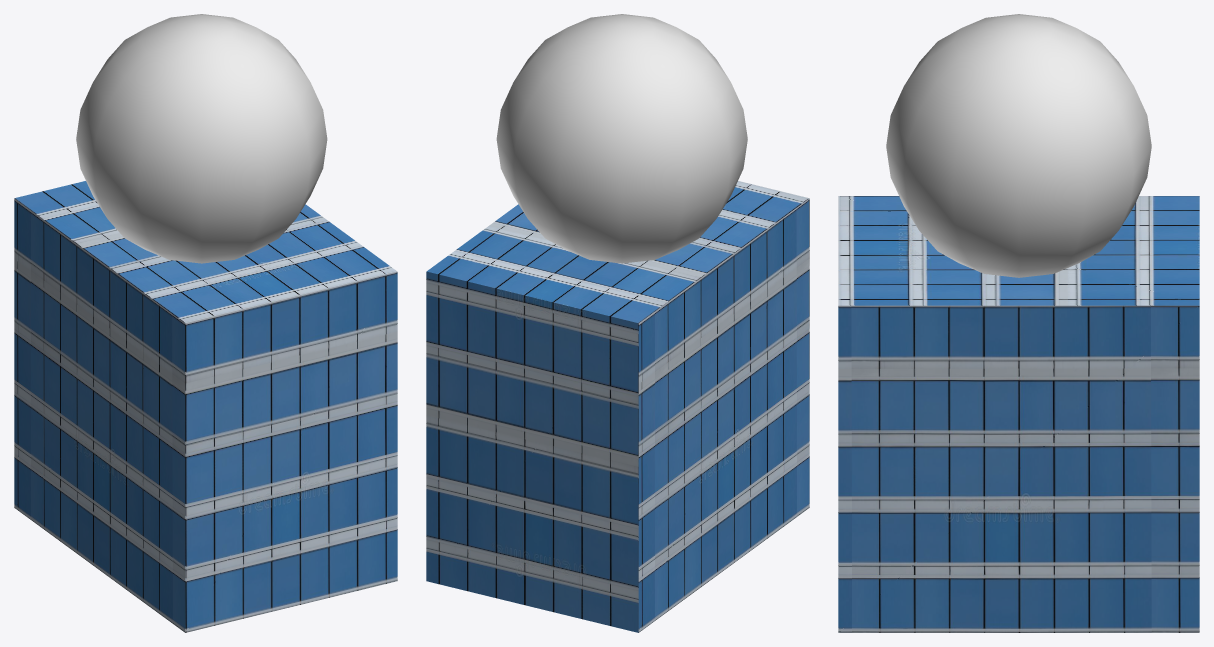
File: office_1.fbx
The picture shows the model from 3 angles, left to right: view 1: azimuth 30°, elevation 25°; view 2: azimuth 150°, elevation 25°; view 3: azimuth 270°, elevation 25°; orthographic projection. The views are drawn at different scales.
Visible parts, largest first — view 1: pCube7, pSphere2; view 2: pCube7, pSphere2; view 3: pCube7, pSphere2.
Part boxes in pixels (bbox=[...]): pCube7: bbox=[14, 181, 397, 632]; pSphere2: bbox=[76, 14, 327, 263]; pCube7: bbox=[426, 181, 809, 632]; pSphere2: bbox=[496, 14, 747, 263]; pCube7: bbox=[838, 196, 1199, 632]; pSphere2: bbox=[886, 14, 1151, 277].
Size of the model in its own units: 1321 by 2999 by 1785.
2 materials, 1 textured.
